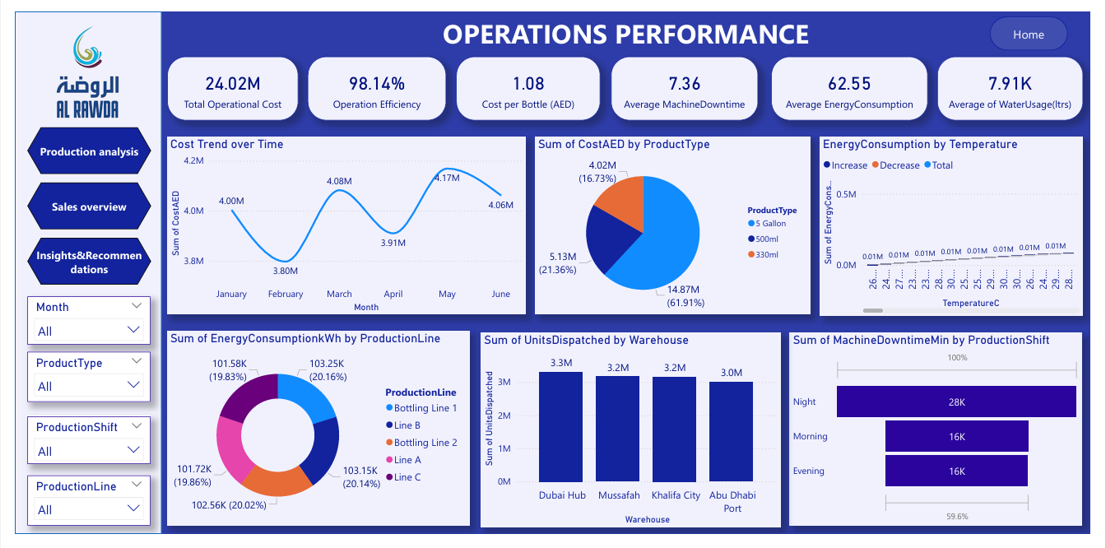

The dashboard page shown, as its layout file describes it:
{"tool":"powerbi","page":{"name":"Operations performance","canvas":[1730,840],"ordinal":3},"visuals":[{"type":"group","id":"g1","title":"Group 1","box":[0,0,236.5,840],"z":0},{"type":"shape","box":[0,0,236.5,840],"z":0,"group":"g1"},{"type":"textbox","box":[236.7,0,1493.3,71.7],"z":1000,"group":"g2"},{"type":"pageNavigator","box":[20.3,185.7,199.2,253.2],"z":1000},{"type":"card","fields":{"Values":["Sum(Table1.CostAED)"]},"box":[244.9,71.8,210.6,103],"z":2000},{"type":"card","fields":{"Values":["Table1.Production Efficiency"]},"box":[471.1,71.8,223.1,103],"z":3000},{"type":"card","fields":{"Values":["Avg(Table1.MachineDowntimeMin)"]},"box":[959.4,71.8,237.1,103],"z":4000},{"type":"card","fields":{"Values":["Avg(Table1.EnergyConsumptionkWh)"]},"box":[1216.8,71.8,252.7,103],"z":5000},{"type":"card","fields":{"Values":["Table1.Cost per Bottle"]},"box":[709.8,71.8,232.4,103],"z":6000},{"type":"lineChart","title":"Cost Trend over Time","fields":{"Category":["Table1.Date.Variation.Date Hierarchy.Month"],"Y":["Sum(Table1.CostAED)"]},"box":[245,201.7,576.7,286.7],"z":7000},{"type":"funnel","fields":{"Y":["Sum(Table1.MachineDowntimeMin)"],"Category":["Table1.ProductionShift"]},"box":[1246.7,516.7,471.7,311.7],"z":8000},{"type":"pieChart","fields":{"Category":["Table1.ProductType"],"Y":["Sum(Table1.CostAED)"]},"box":[836.7,201.7,443.3,286.7],"z":9000},{"type":"donutChart","fields":{"Y":["Sum(Table1.EnergyConsumptionkWh)"],"Category":["Table1.ProductionLine"]},"box":[244.7,514.3,486.1,312.5],"z":10000},{"type":"waterfallChart","title":" EnergyConsumption by Temperature","fields":{"Category":["Table1.TemperatureC"],"Y":["Sum(Table1.EnergyConsumptionkWh)"]},"box":[1295,201.7,423.3,288.3],"z":11000},{"type":"slicer","fields":{"Values":["Table1.Date.Variation.Date Hierarchy.Month"]},"box":[19.8,458,198.4,77.7],"z":12000},{"type":"slicer","fields":{"Values":["Table1.ProductType"]},"box":[19.8,547.3,198.4,81],"z":13000},{"type":"slicer","fields":{"Values":["Table1.ProductionShift"]},"box":[19.8,651.5,198.4,76.1],"z":14000},{"type":"slicer","fields":{"Values":["Table1.ProductionLine"]},"box":[19.8,745.7,198.4,81],"z":15000},{"type":"clusteredColumnChart","fields":{"Category":["Table1.Warehouse"],"Y":["Sum(Table1.UnitsDispatched)"]},"box":[750,516.7,483.3,313.3],"z":16000},{"type":"card","fields":{"Values":["Avg(Table1.WaterUsageLiters)"]},"box":[1483.5,71.8,235.6,103],"z":17000},{"type":"group","id":"g2","title":"Group 2","box":[236.7,0,1493.3,71.7],"z":18000},{"type":"image","box":[5.6,0,227.8,201.9],"z":18001,"group":"g1"},{"type":"pageNavigator","box":[1568.4,8.3,125,53.3],"z":18001,"group":"g2"}]}

Visuals, with their boxes in screenshot pixels (x1, y1, x2, y2), scaled from the page's 1730x840 canvas onto the 1105x548 screenshot:
"Group 1" group: locate(0, 0, 151, 547)
shape: locate(0, 0, 151, 547)
textbox: locate(151, 0, 1104, 47)
pageNavigator: locate(13, 121, 140, 286)
card - Sum(Table1.CostAED): locate(156, 47, 291, 114)
card - Table1.Production Efficiency: locate(301, 47, 443, 114)
card - Avg(Table1.MachineDowntimeMin): locate(613, 47, 764, 114)
card - Avg(Table1.EnergyConsumptionkWh): locate(777, 47, 939, 114)
card - Table1.Cost per Bottle: locate(453, 47, 602, 114)
"Cost Trend over Time" lineChart: locate(156, 132, 525, 319)
funnel - Sum(Table1.MachineDowntimeMin) x Table1.ProductionShift: locate(796, 337, 1098, 540)
pieChart - Table1.ProductType x Sum(Table1.CostAED): locate(534, 132, 818, 319)
donutChart - Sum(Table1.EnergyConsumptionkWh) x Table1.ProductionLine: locate(156, 336, 467, 539)
" EnergyConsumption by Temperature" waterfallChart: locate(827, 132, 1098, 320)
slicer - Table1.Date.Variation.Date Hierarchy.Month: locate(13, 299, 139, 349)
slicer - Table1.ProductType: locate(13, 357, 139, 410)
slicer - Table1.ProductionShift: locate(13, 425, 139, 475)
slicer - Table1.ProductionLine: locate(13, 486, 139, 539)
clusteredColumnChart - Table1.Warehouse x Sum(Table1.UnitsDispatched): locate(479, 337, 788, 541)
card - Avg(Table1.WaterUsageLiters): locate(948, 47, 1098, 114)
"Group 2" group: locate(151, 0, 1104, 47)
image: locate(4, 0, 149, 132)
pageNavigator: locate(1002, 5, 1082, 40)
